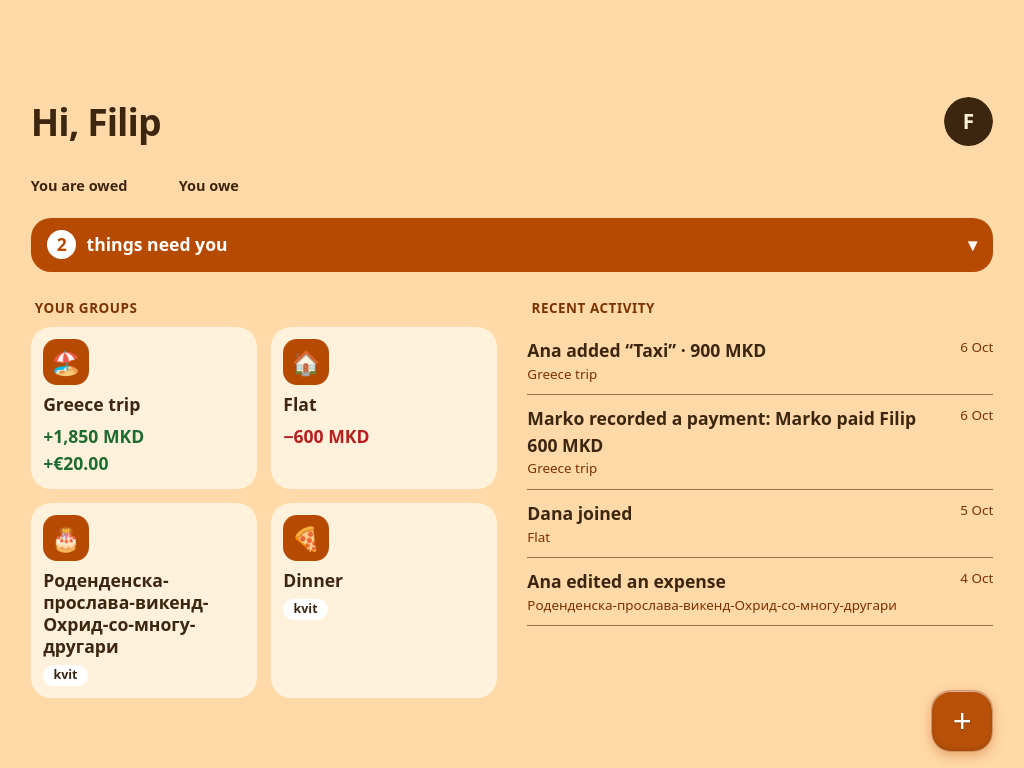
Test: a closing card › Object › closes the sheet, shows the success toast and takes the card away after Send
The image size is (1024, 768).
Expected: the heading "Your groups" is shown, [35,299,137,317]
What coordinates should you click on to do the following:
click the button "2 things need you ▾"
I would click on:
 (157, 244)
Its box is [31,218,993,272].
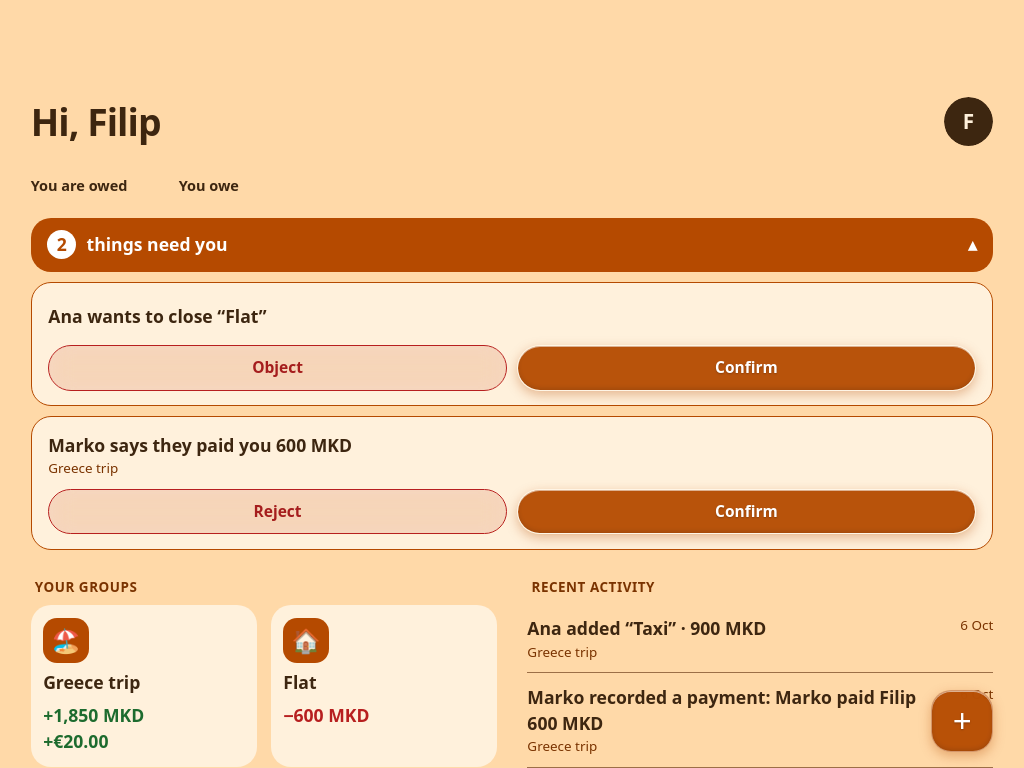
What coordinates should you click on to do the following:
click the button "Object"
I would click on:
 (278, 368)
Its box is [48,345,507,390].
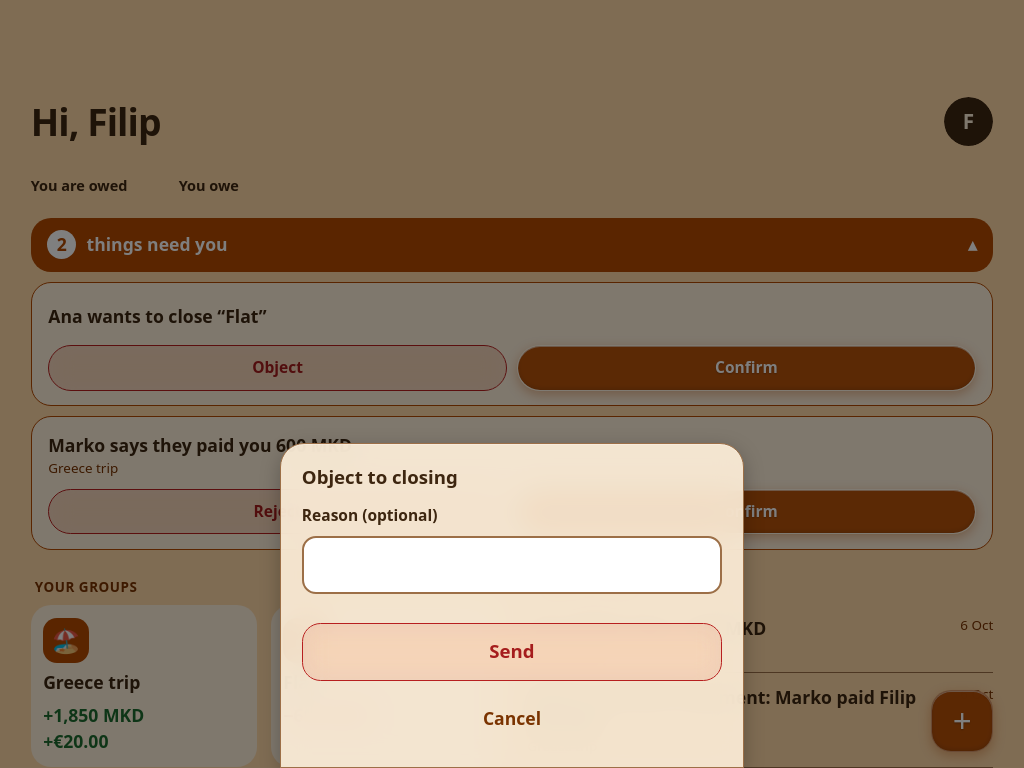
What coordinates should you click on to do the following:
click the button "Send"
I would click on:
 (512, 652)
Its box is [302,623,722,681].
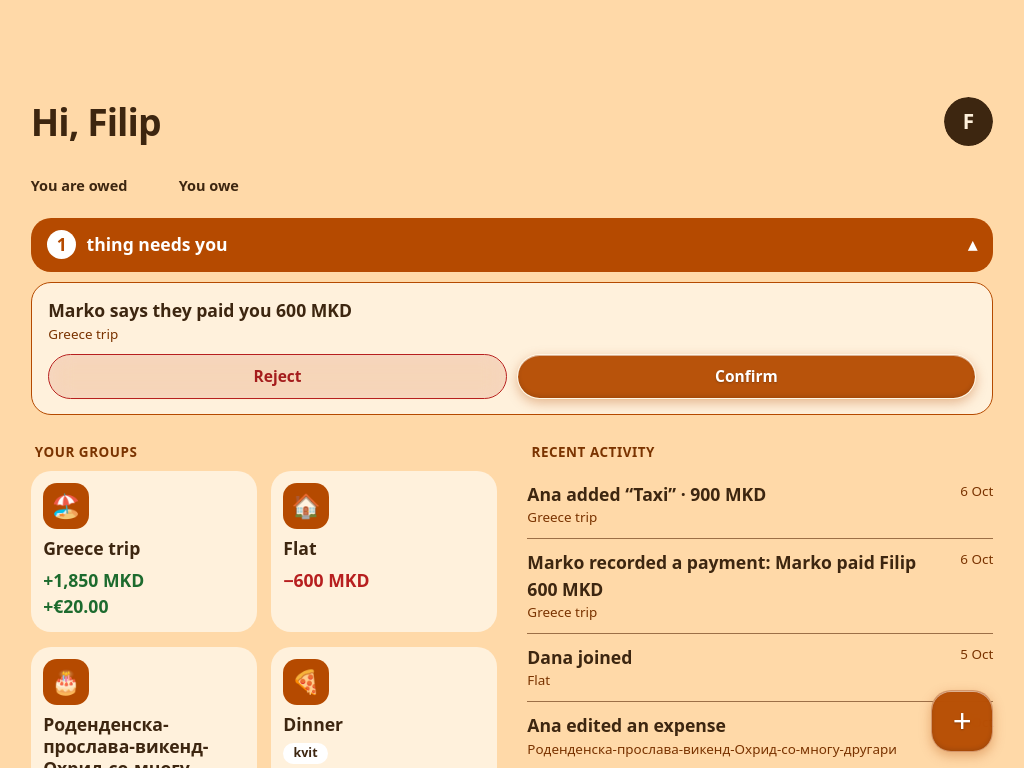
Now the dialog is gone
